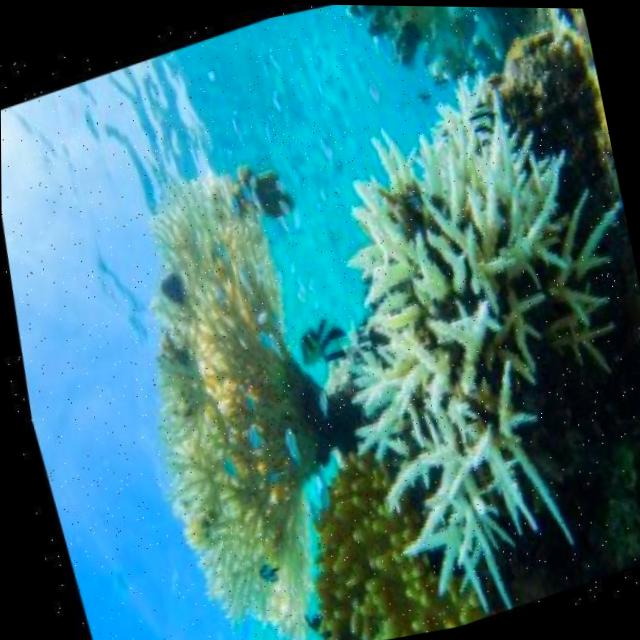Bleached Coral: (315, 49, 640, 604)
Healthy Coral: (101, 147, 333, 640), (280, 449, 439, 640)
